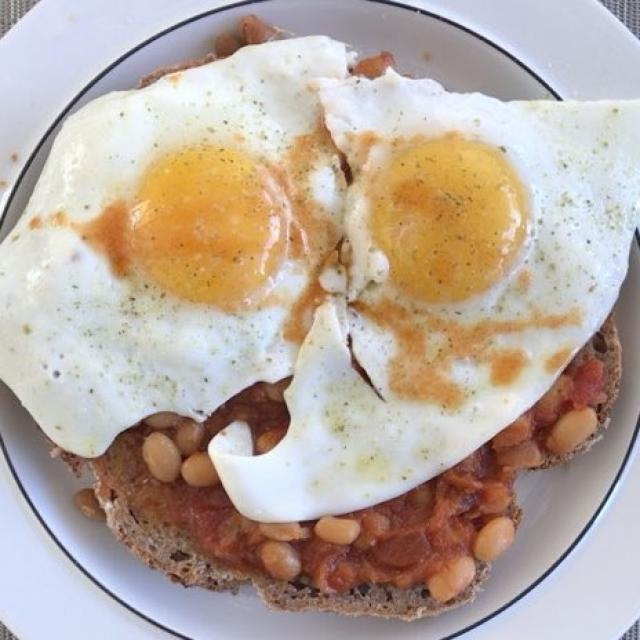beans: (150, 373, 625, 606)
bread: (65, 322, 622, 624)
egg: (0, 51, 630, 528)
